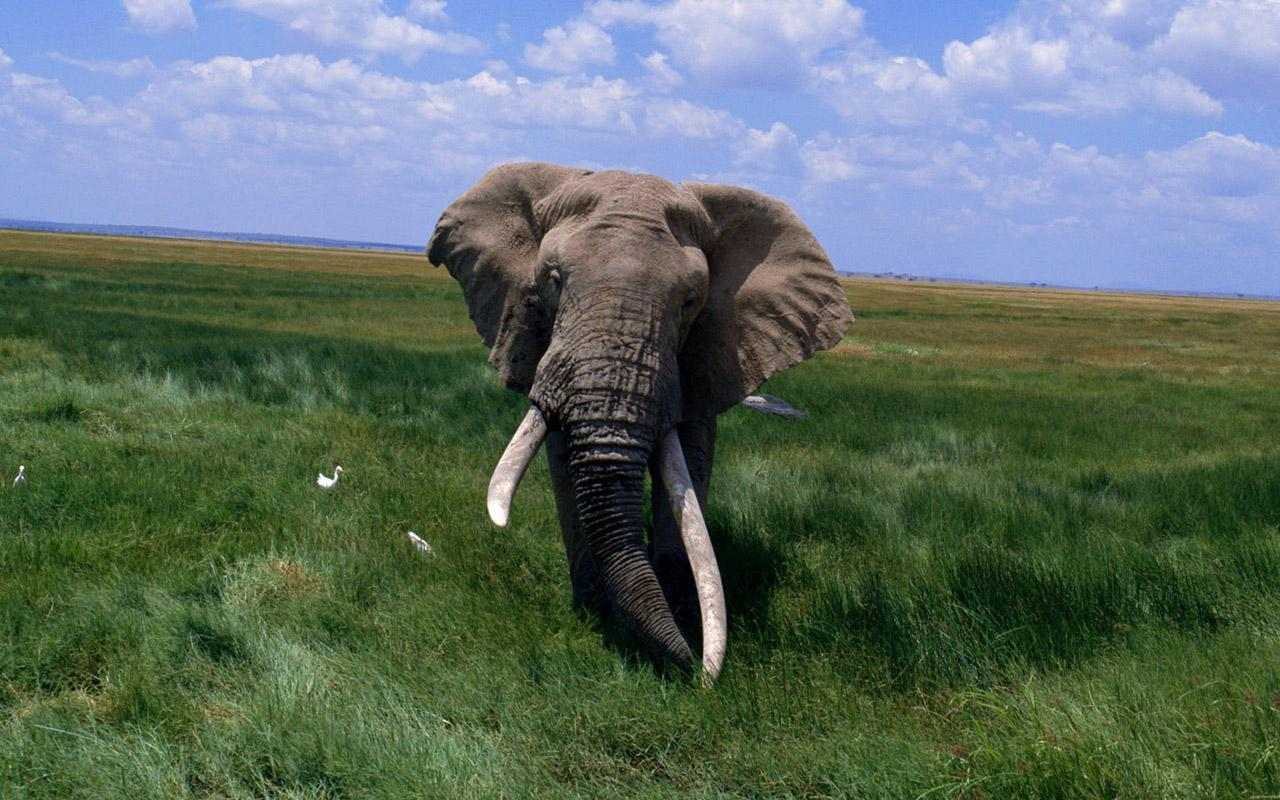africanelephant: (460, 131, 735, 588)
